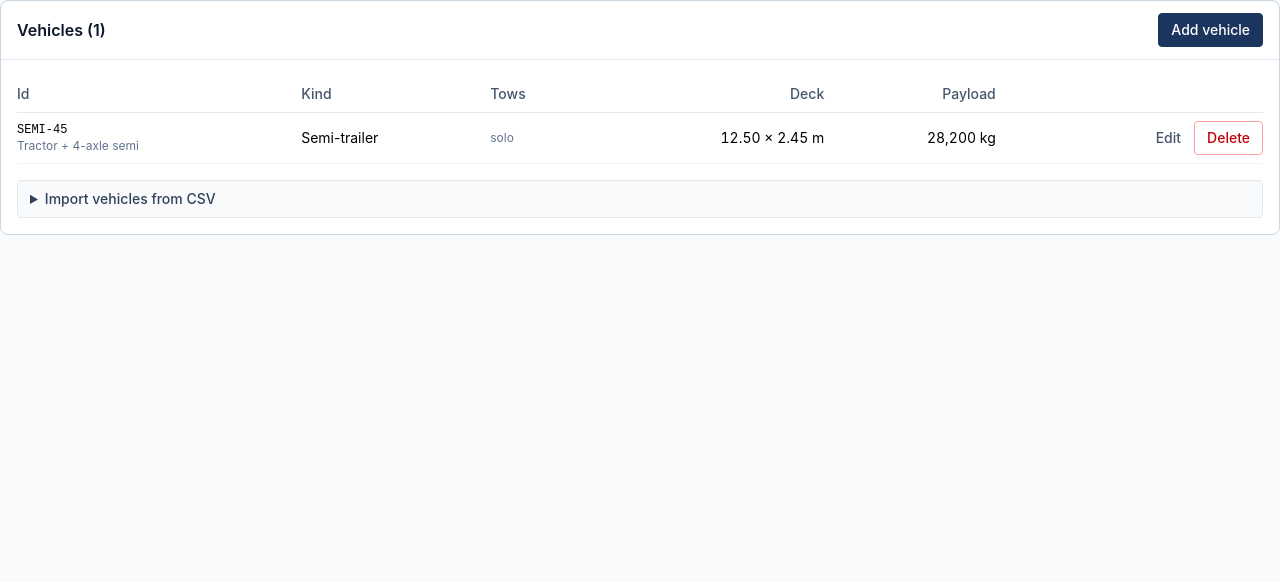
it: VehicleSection › edits an existing vehicle in place
The image size is (1280, 582).
Click the button "Edit".
click(1168, 138)  # box [1143,121,1194,155]
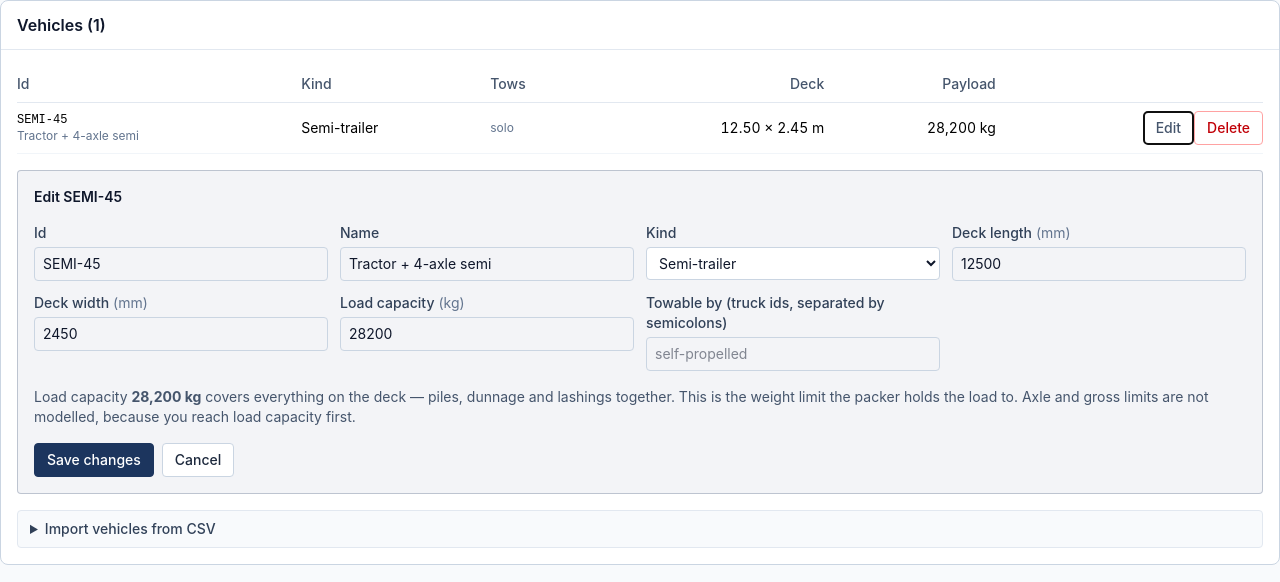
Replace the text in the field labelled "Name" with "Renamed rig" at point(487, 264), box [340,247,634,281]
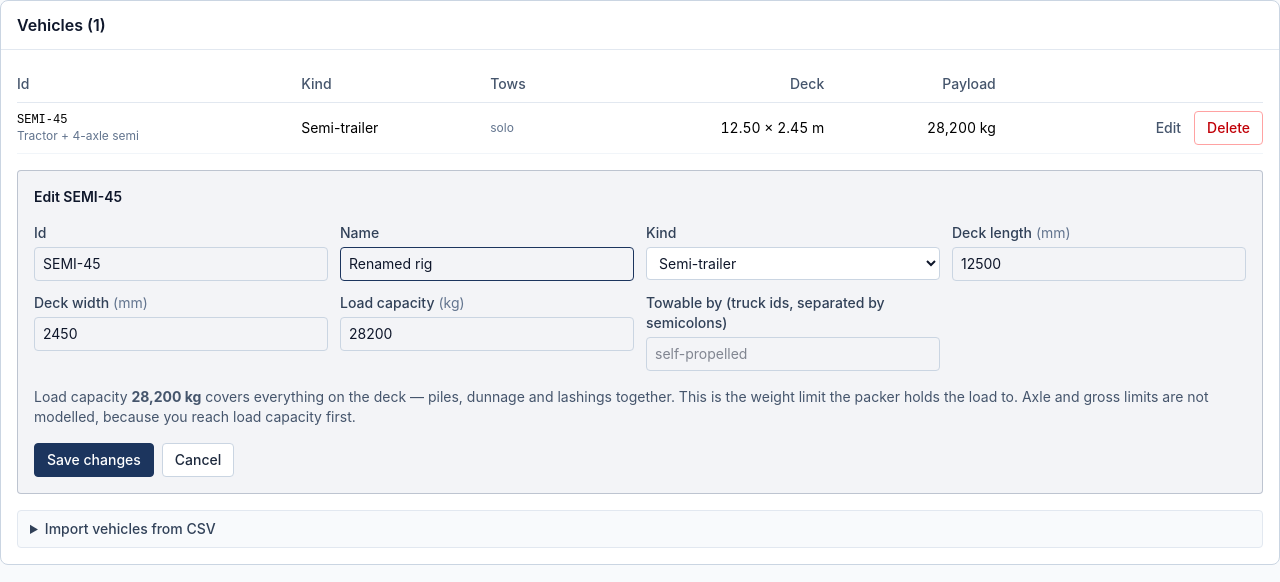
Click the button "Save changes".
click(94, 460)  # box [34,443,154,477]
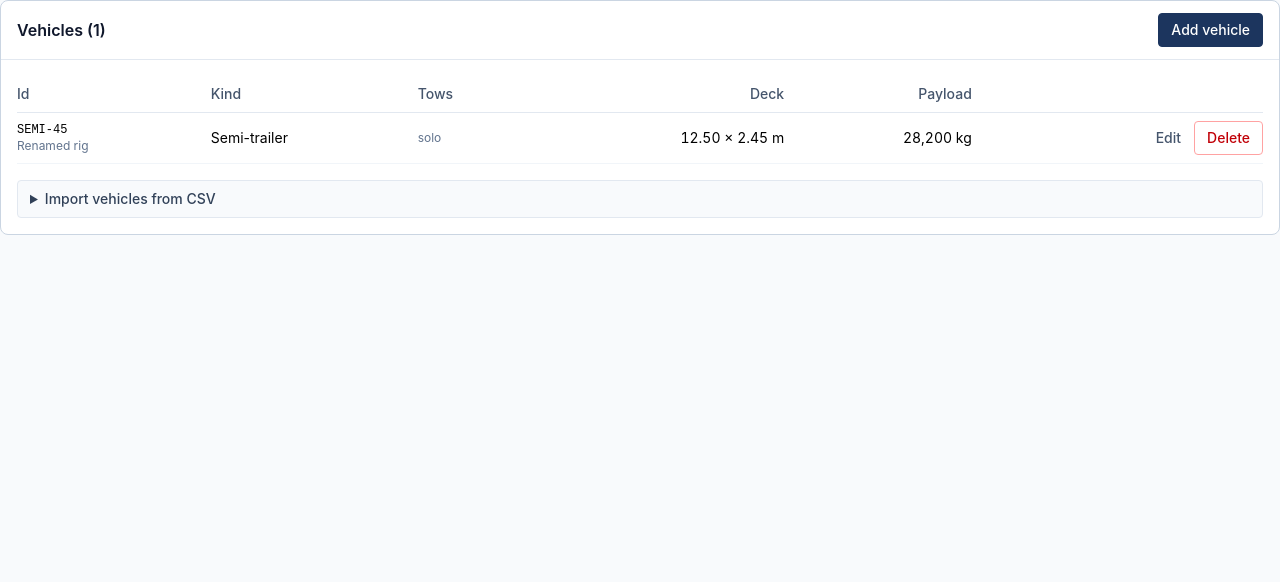
Expected: the heading "Vehicles (1)" is shown, [17,18,106,42]
Result: the text "Renamed rig" is shown at [17,138,88,153]
